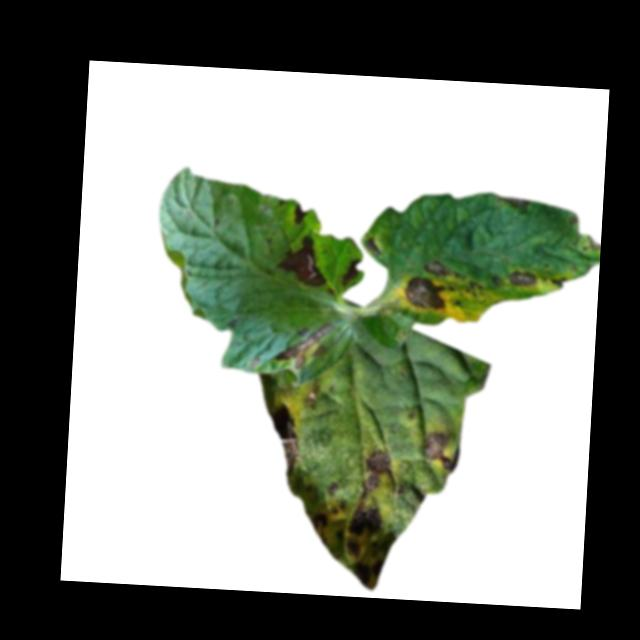Early_blight: (303, 514, 399, 591), (272, 315, 337, 370), (275, 234, 329, 288), (272, 405, 301, 480), (403, 275, 457, 313), (423, 426, 457, 471), (364, 447, 393, 493), (349, 502, 385, 535), (341, 256, 363, 289), (421, 255, 453, 276), (508, 268, 537, 288), (493, 193, 531, 207), (291, 203, 310, 226), (548, 273, 567, 288)
